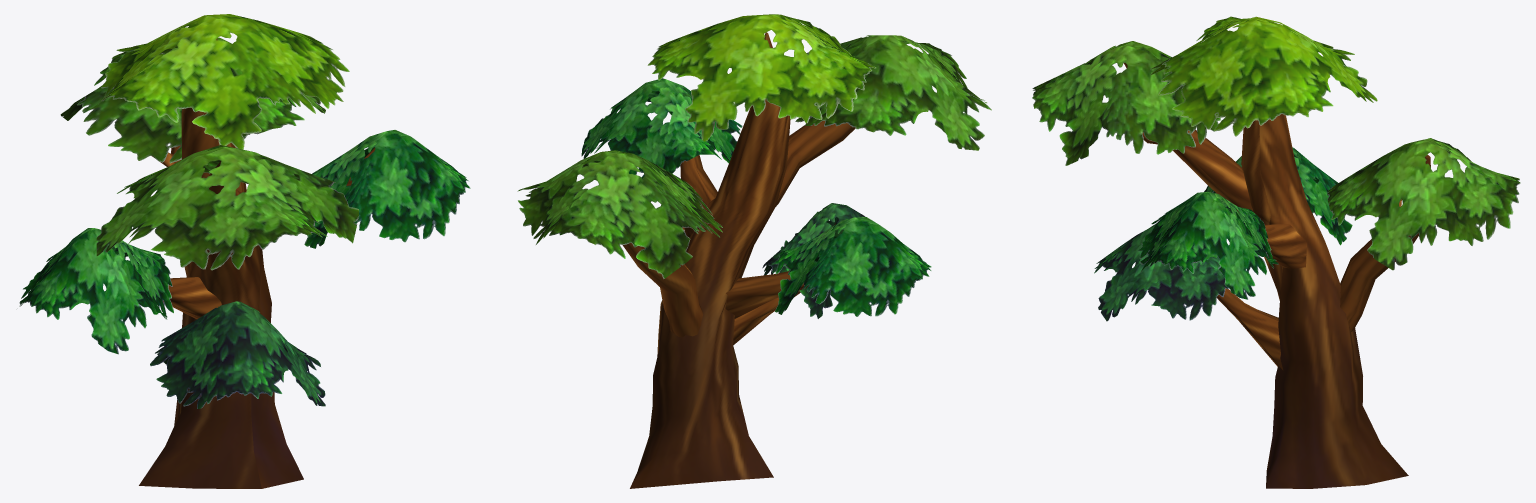
The model's file is tree_2.FBX.
3 views of the same model, side by side, from view 1: azimuth 30°, elevation 25°; view 2: azimuth 150°, elevation 25°; view 3: azimuth 270°, elevation 25° (orthographic). The views are drawn at different scales.
Visible parts, largest first — view 1: tree_2; view 2: tree_2; view 3: tree_2.
Boxes of the visible parts, x1=… form: tree_2: x1=19, y1=14, x2=470, y2=488; tree_2: x1=517, y1=14, x2=991, y2=488; tree_2: x1=1032, y1=16, x2=1520, y2=488.
Size of the model in its own units: 201 by 226 by 235.
